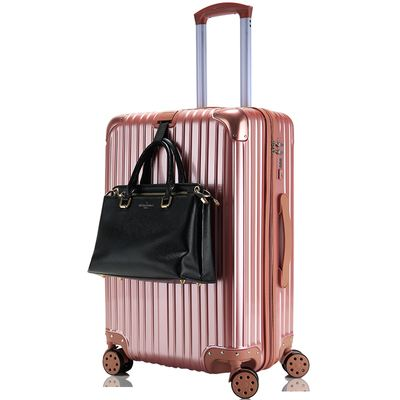box: (105, 106, 294, 374)
handle: (278, 193, 294, 290)
lock: (270, 138, 286, 182)
wheel: (230, 368, 260, 399), (102, 347, 133, 375), (282, 348, 310, 378)
